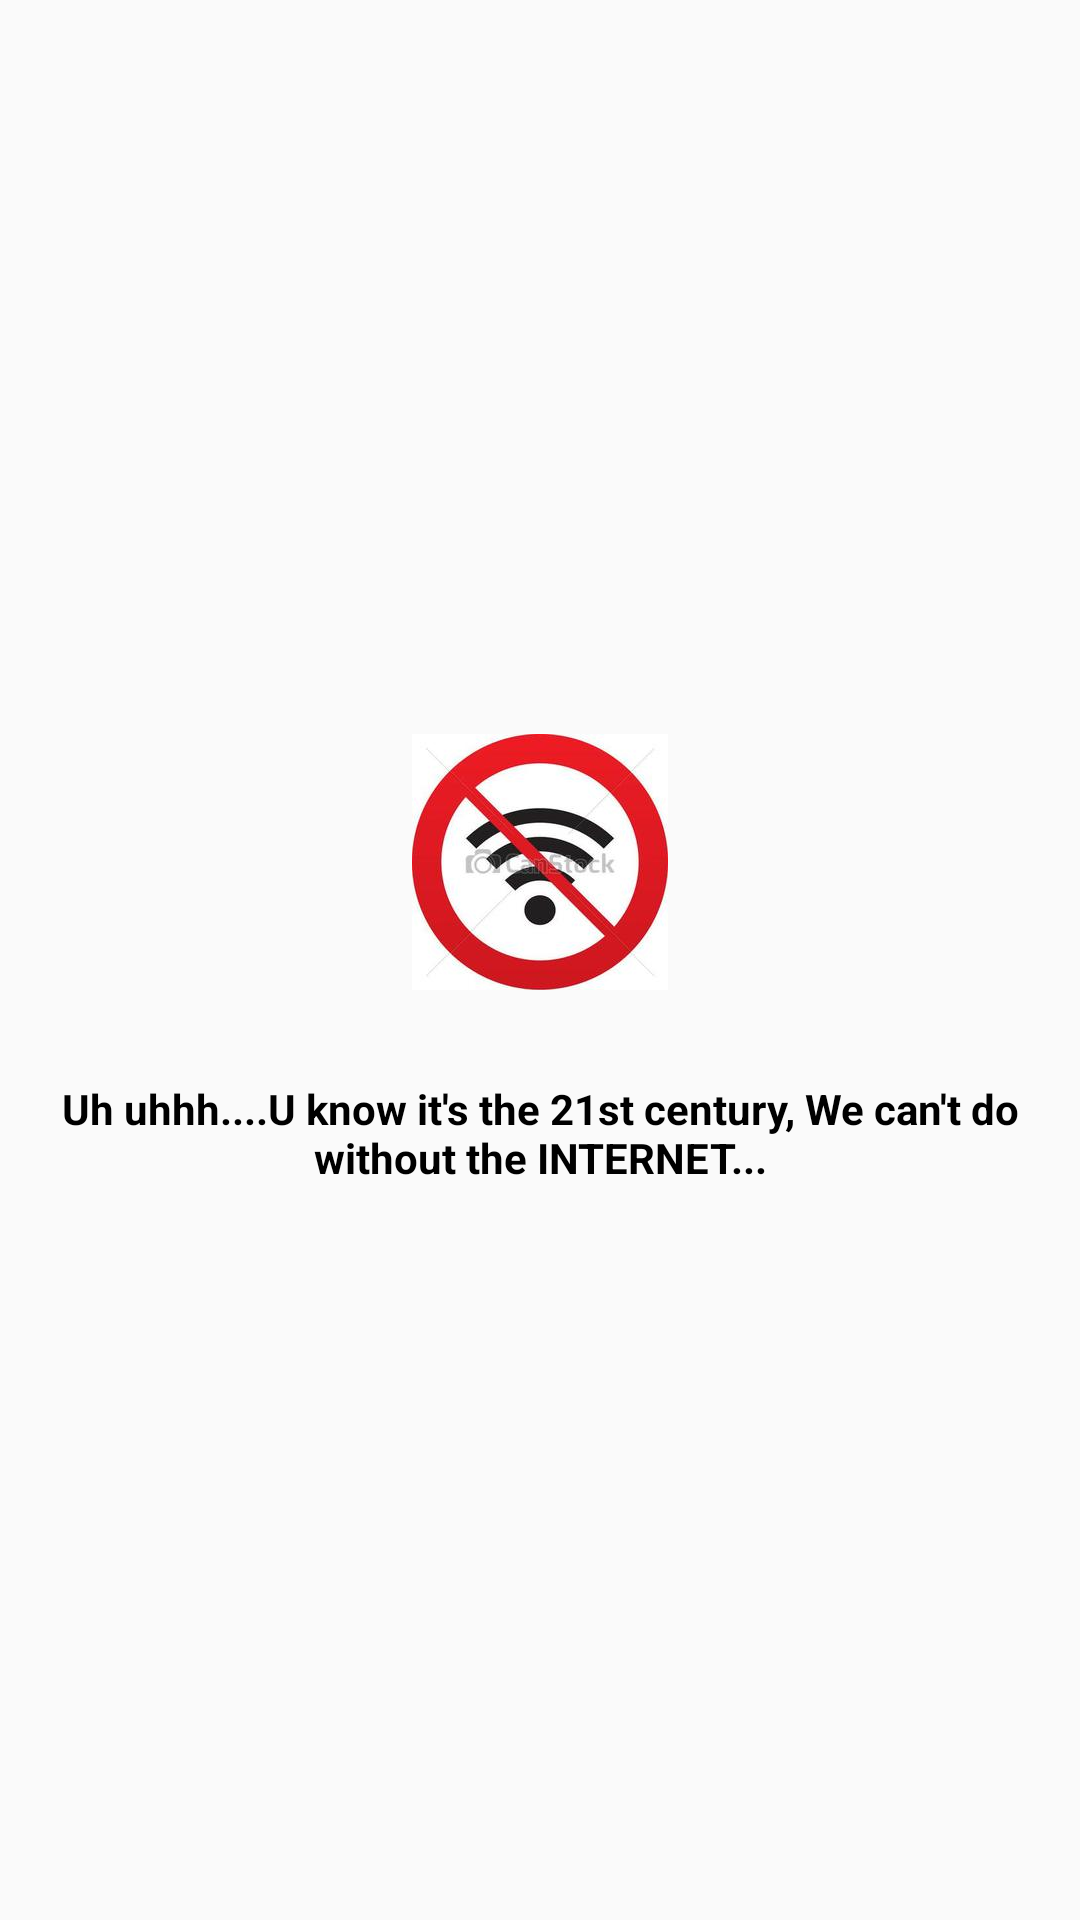

Icon click points for this 1080 × 1920 phone screenshot, format point (x, y):
no network: point (540, 862)
